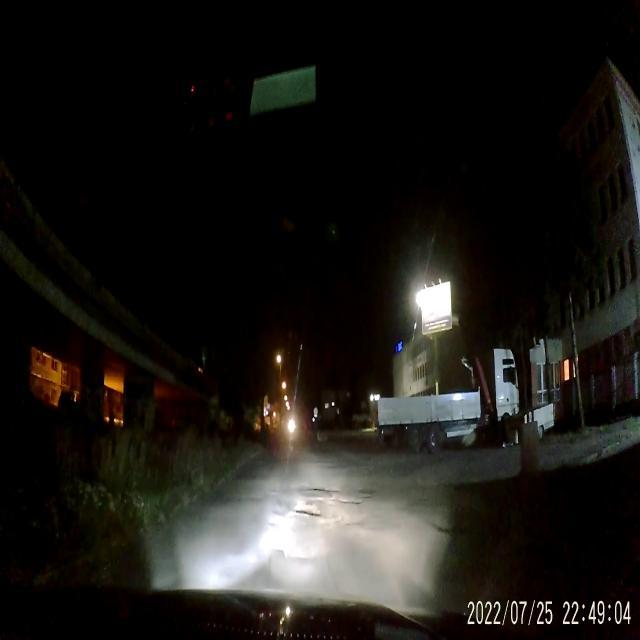Pothole: (291, 499, 322, 521), (308, 484, 340, 498), (282, 544, 304, 563), (340, 500, 367, 510)
